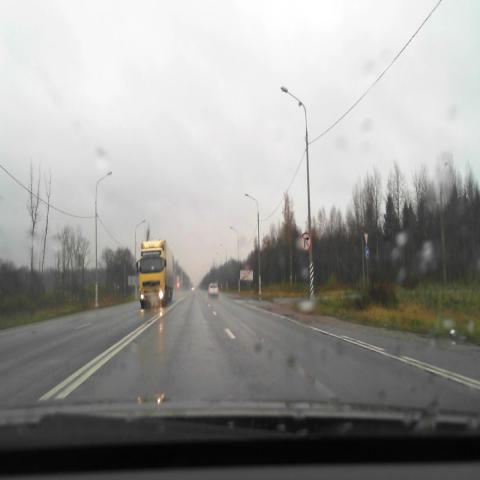3_18: (300, 232, 312, 252)
